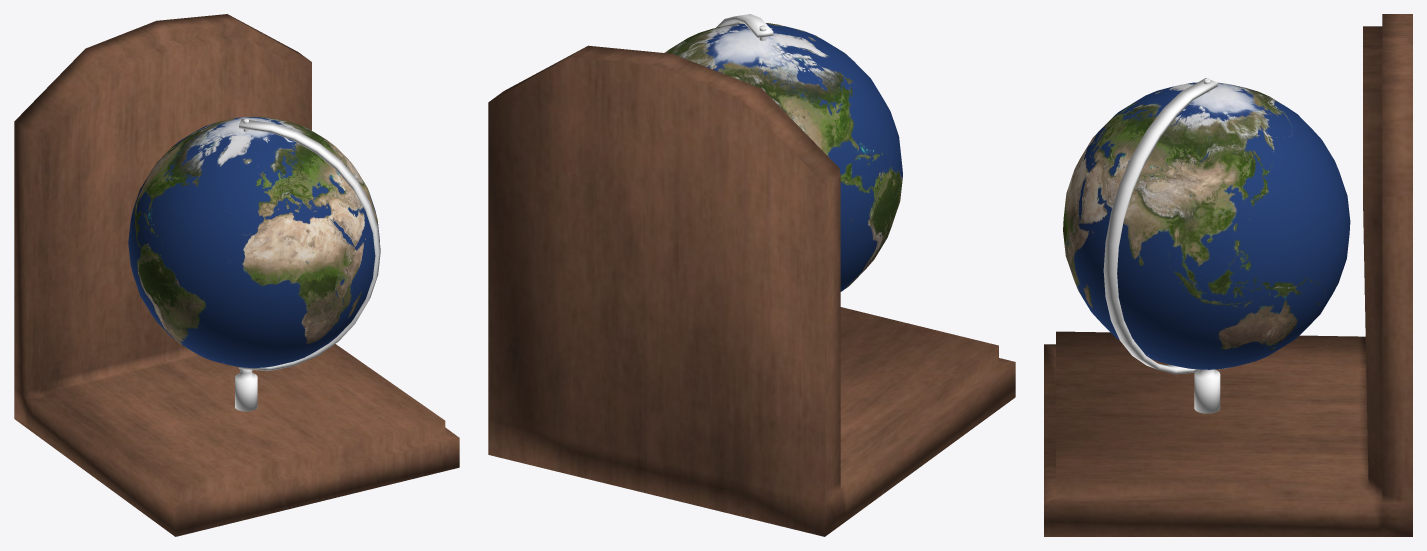
File: decor_type_3.glb
The picture shows the model from 3 angles, left to right: view 1: azimuth 30°, elevation 25°; view 2: azimuth 150°, elevation 25°; view 3: azimuth 270°, elevation 25°; orthographic projection. The views are drawn at different scales.
Parts seen in each view (by area): view 1: Base, Sphere, Globe-Stand; view 2: Base, Sphere, Globe-Stand; view 3: Base, Sphere, Globe-Stand.
Boxes of the visible parts, bbox=[...] form: Base: bbox=[14, 14, 459, 536]; Sphere: bbox=[128, 116, 379, 367]; Globe-Stand: bbox=[235, 119, 380, 411]; Base: bbox=[488, 45, 1015, 536]; Sphere: bbox=[664, 23, 902, 291]; Globe-Stand: bbox=[716, 14, 773, 40]; Base: bbox=[1044, 14, 1412, 536]; Sphere: bbox=[1063, 82, 1350, 369]; Globe-Stand: bbox=[1103, 78, 1220, 413].
Bounding box in the file's own units: 0.306 × 0.374 × 0.3006.
3 materials, 2 textured.
